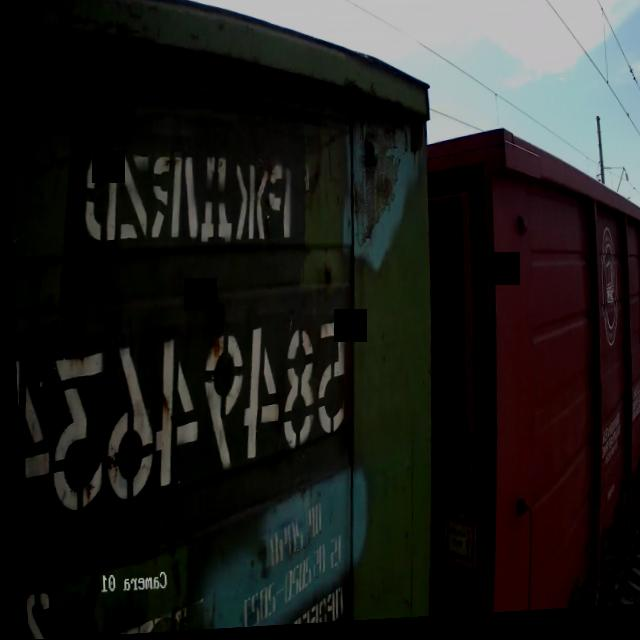gondola: (0, 0, 458, 640), (403, 116, 640, 621)
